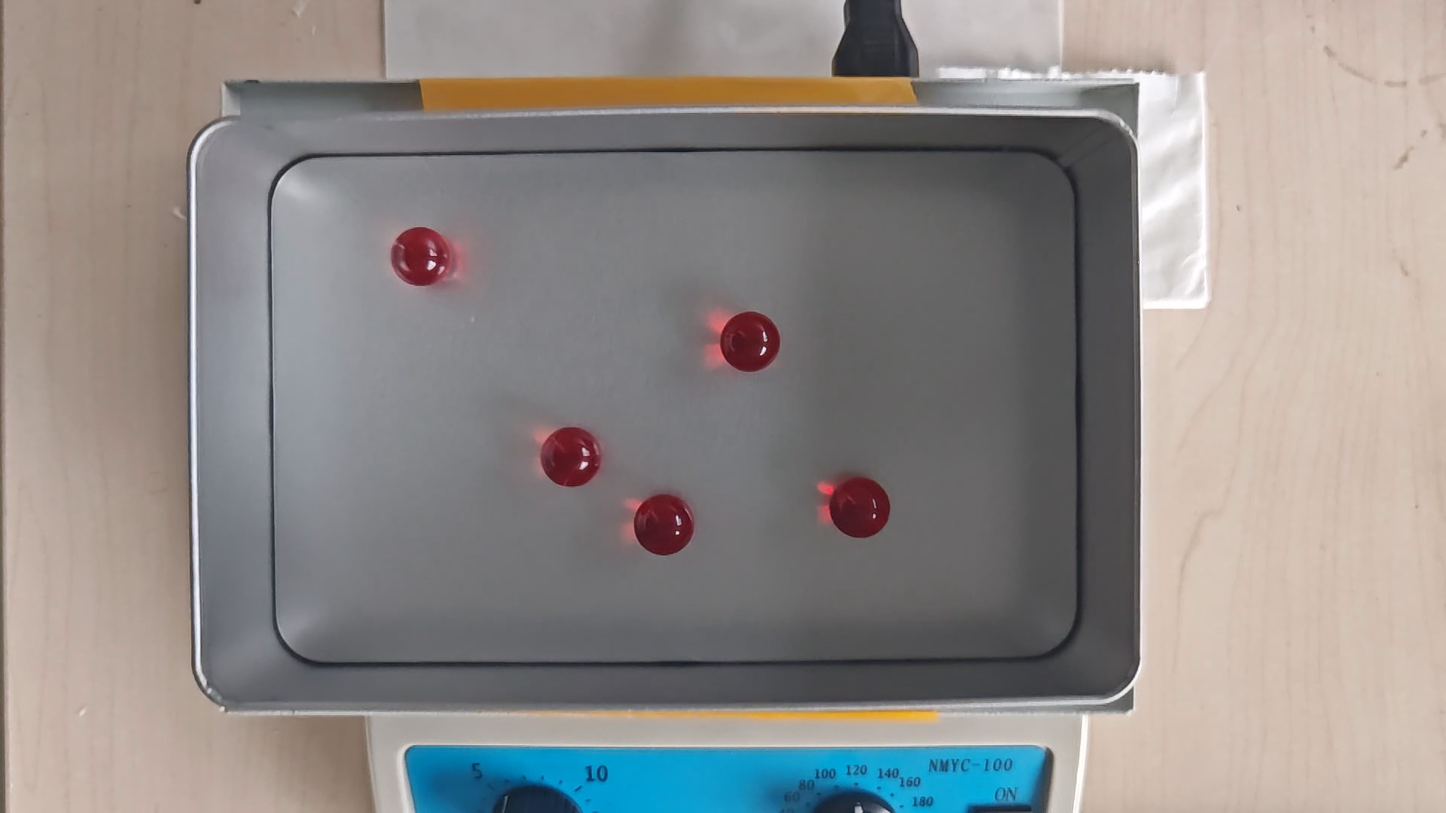ball: (830, 477, 892, 539), (542, 425, 602, 489), (633, 494, 694, 555), (721, 312, 781, 371), (392, 227, 449, 286)
container: (272, 149, 1078, 663)
